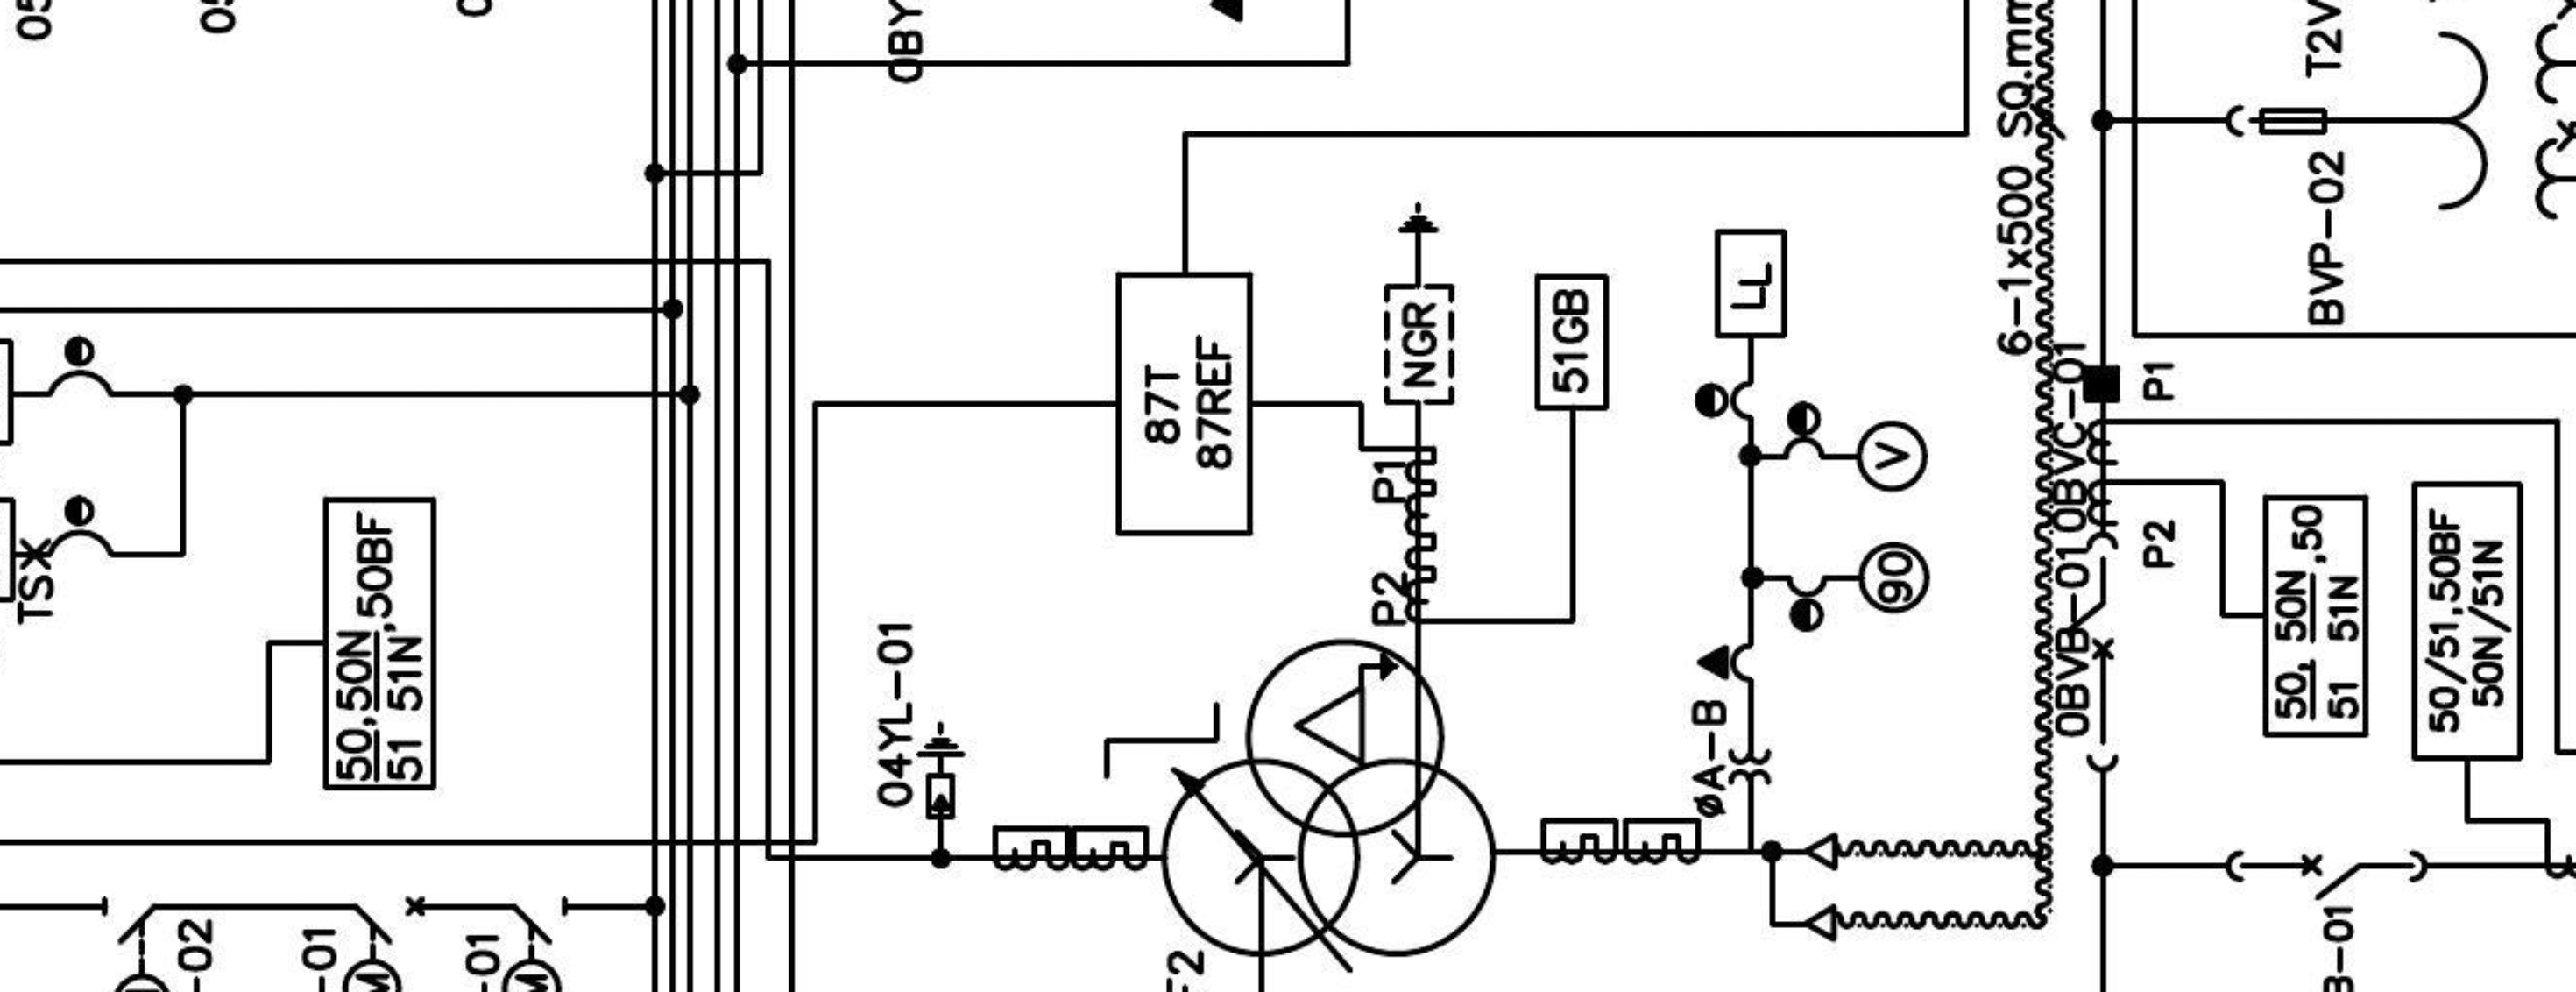11522_tx_ynyn0d1: (1160, 637, 1498, 959)
115_breaker: (355, 895, 425, 946)
115_la: (915, 719, 968, 821)
22_breaker: (2067, 530, 2119, 774), (2224, 849, 2428, 902)
LL: (1713, 228, 1787, 340)
NGR_future: (1383, 200, 1456, 407)
terminator_double: (1768, 831, 1838, 944)
v_m: (1855, 419, 1930, 494)
